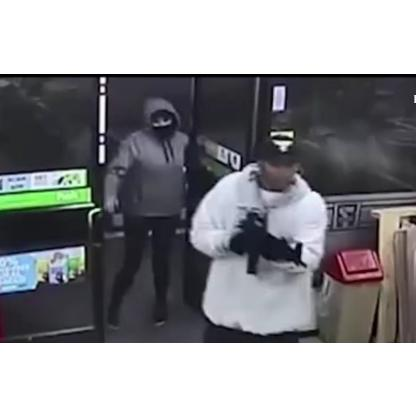gun: (224, 209, 312, 274)
